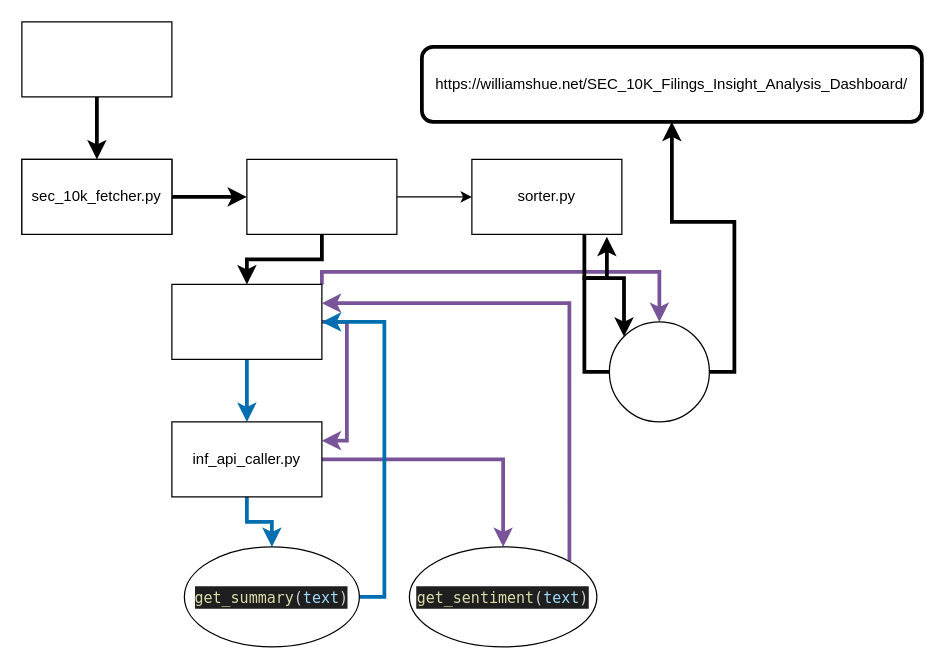
This 945x669 diagram has some shape labels left out. The centre of each missing label's shape, as x and y in pixels:
data.json: (x=658, y=371)
main.py: (x=96, y=59)
parse_10k.py: (x=246, y=321)
populate_json.py: (x=321, y=196)
